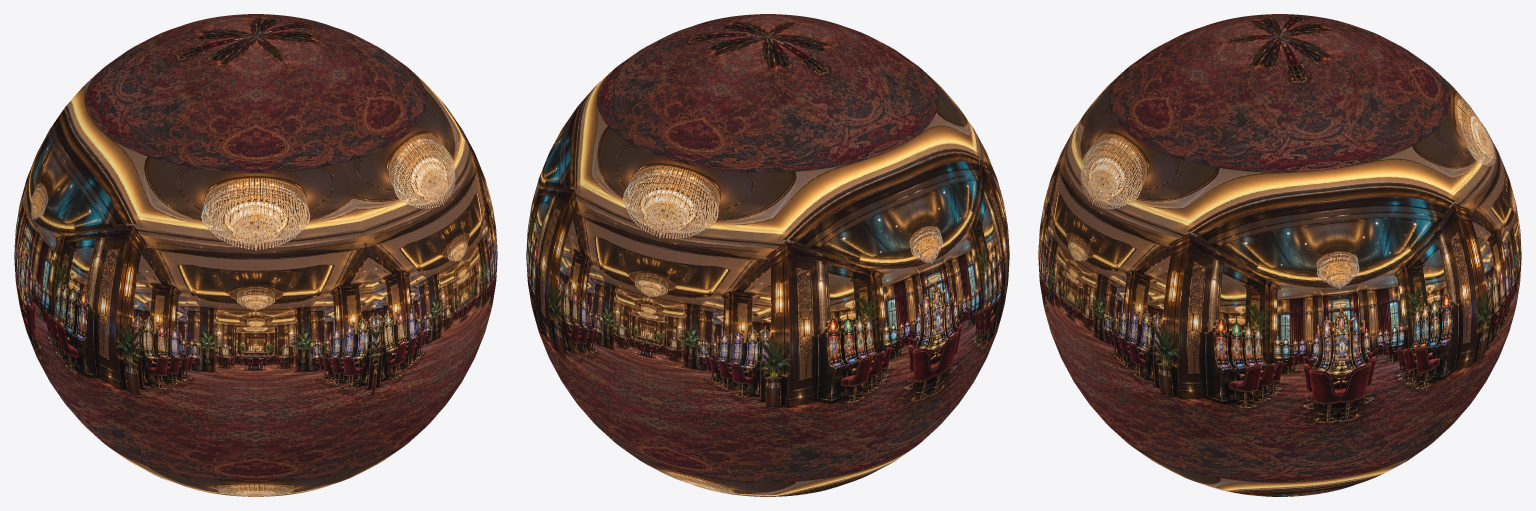
The model's file is classic_atrium.glb.
The picture shows the model from 3 angles, left to right: view 1: azimuth 30°, elevation 25°; view 2: azimuth 150°, elevation 25°; view 3: azimuth 270°, elevation 25°; orthographic projection.
Parts seen in each view (by area): view 1: Casino_Surround; view 2: Casino_Surround; view 3: Casino_Surround.
Boxes of the visible parts, left/top/right/bottom form: Casino_Surround: left=14, top=14, right=497, bottom=496; Casino_Surround: left=526, top=14, right=1009, bottom=496; Casino_Surround: left=1038, top=14, right=1521, bottom=496.
Bounding box in the file's own units: 44 × 44 × 44.
18 materials, 6 textured.
